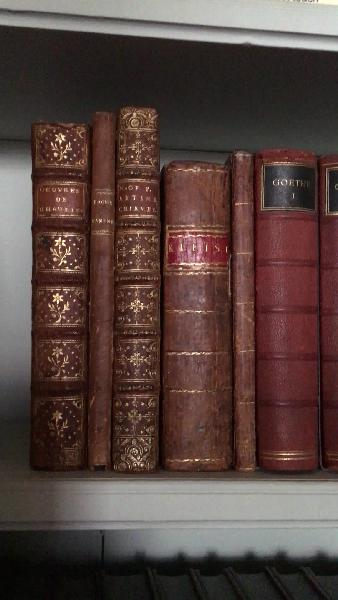Aa6-10: (228, 144, 262, 470)
Aa6-11_13: (254, 139, 338, 473)
Aa6-6: (32, 118, 88, 470)
Aa6-7: (88, 109, 116, 471)
Aa6-8: (115, 102, 159, 474)
Aa6-9: (161, 159, 231, 476)
